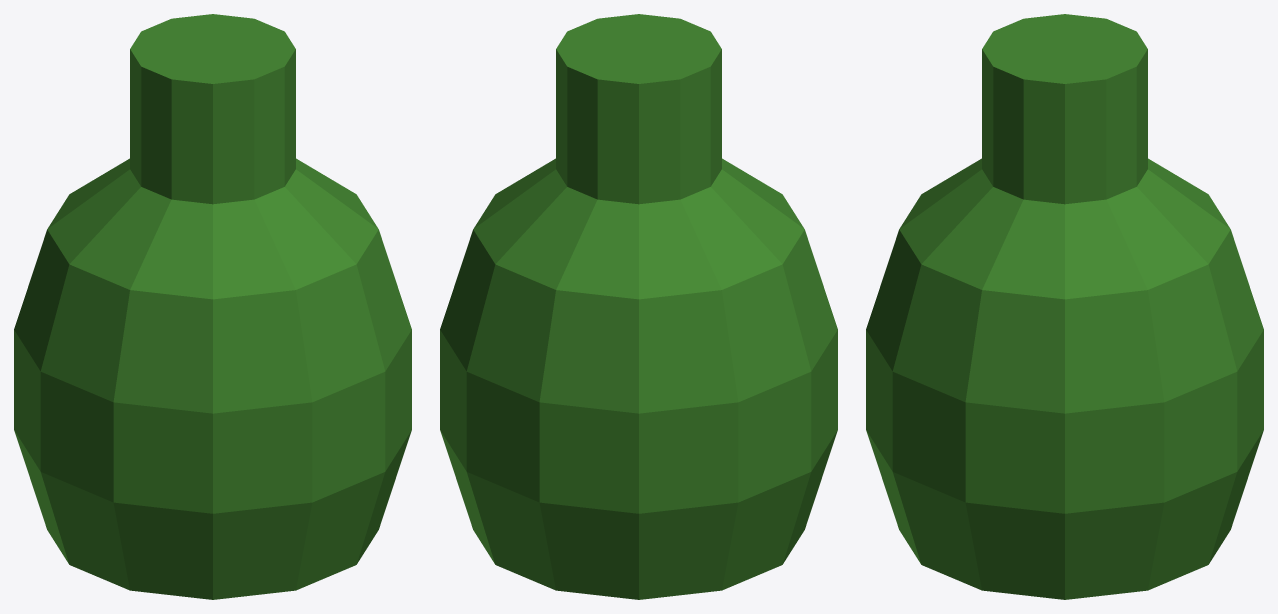
Rendered from Vase.fbx.
3 renders of one model, left to right at view 1: azimuth 30°, elevation 25°; view 2: azimuth 150°, elevation 25°; view 3: azimuth 270°, elevation 25°, orthographic.
Parts seen in each view (by area): view 1: Cylinder_5; view 2: Cylinder_5; view 3: Cylinder_5.
Boxes of the visible parts, bbox=[...] form: Cylinder_5: bbox=[14, 14, 411, 599]; Cylinder_5: bbox=[440, 14, 837, 599]; Cylinder_5: bbox=[866, 14, 1263, 599].
Size of the model in its own units: 120 by 160 by 120.
